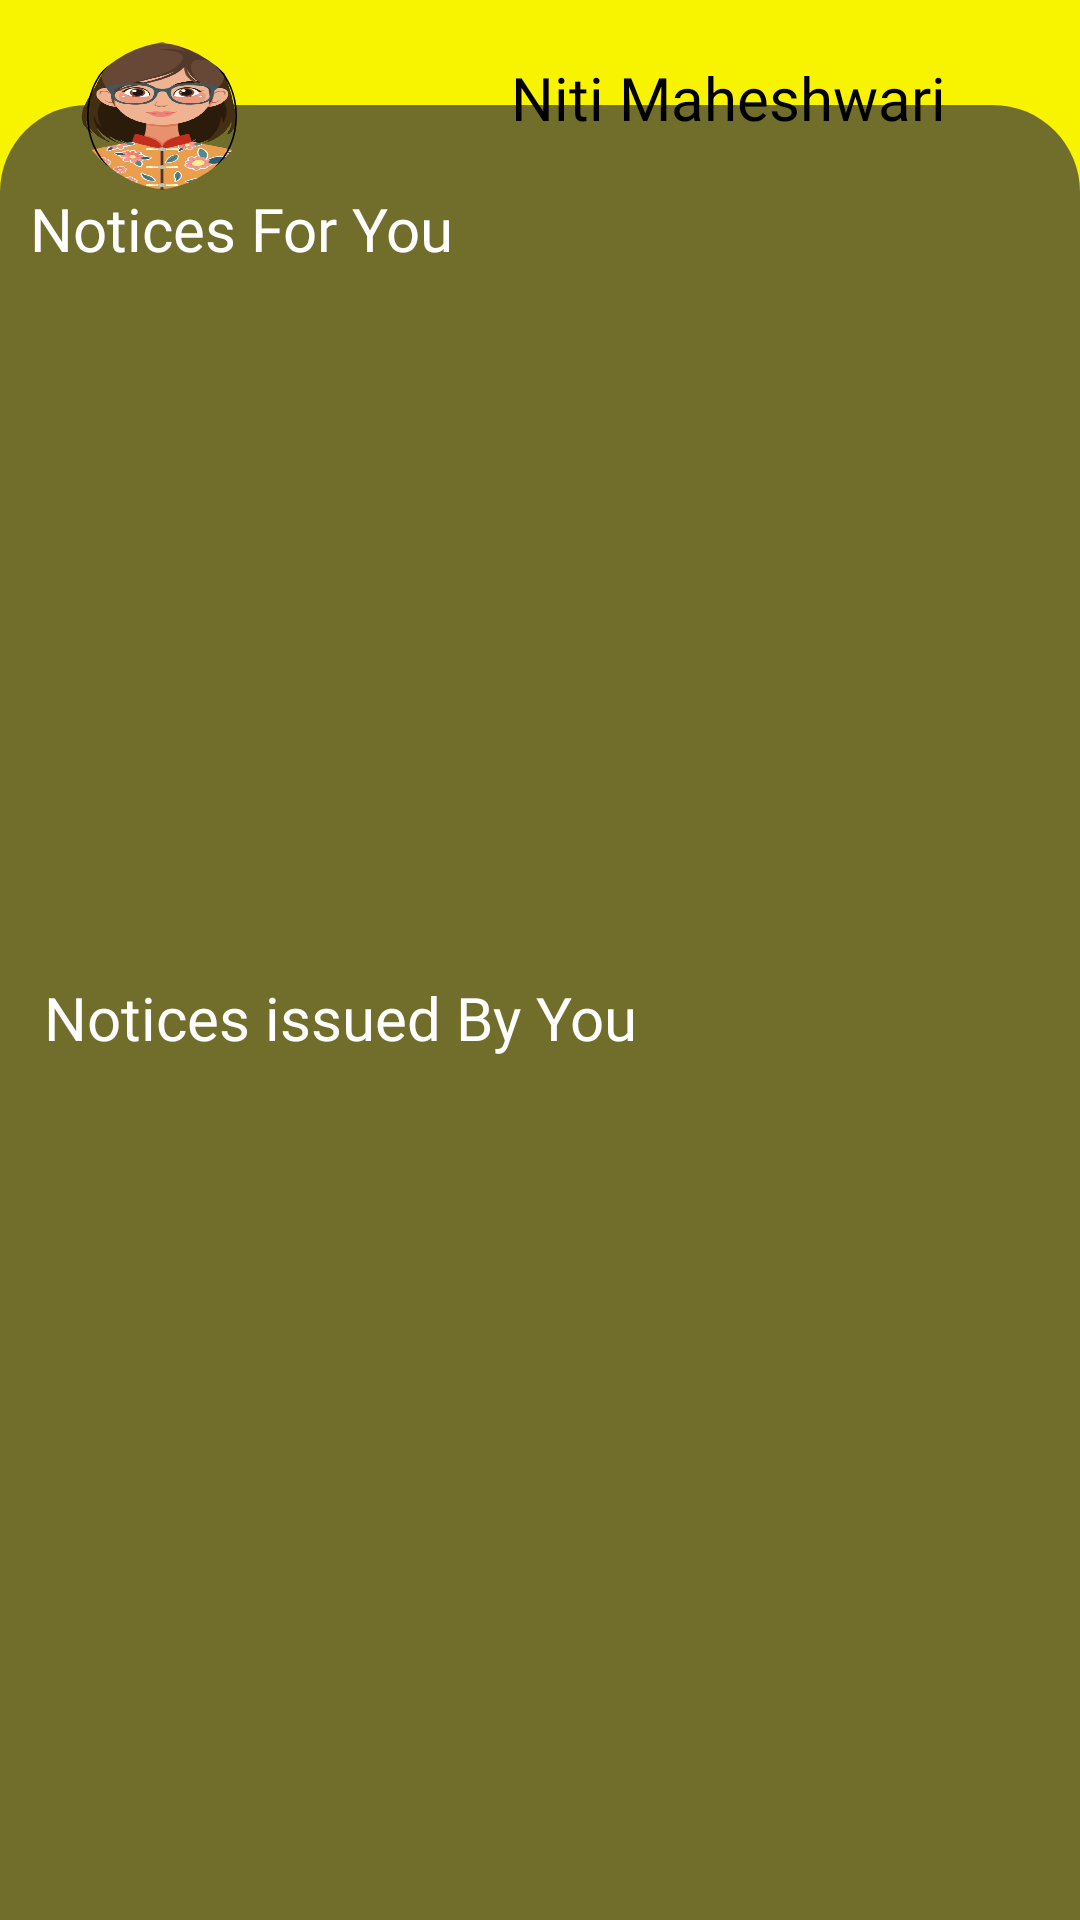

Icons on this 1080 × 1920 Android screen, each with the point to tap as (x=x, y=y):
pimage: (x=162, y=116)
